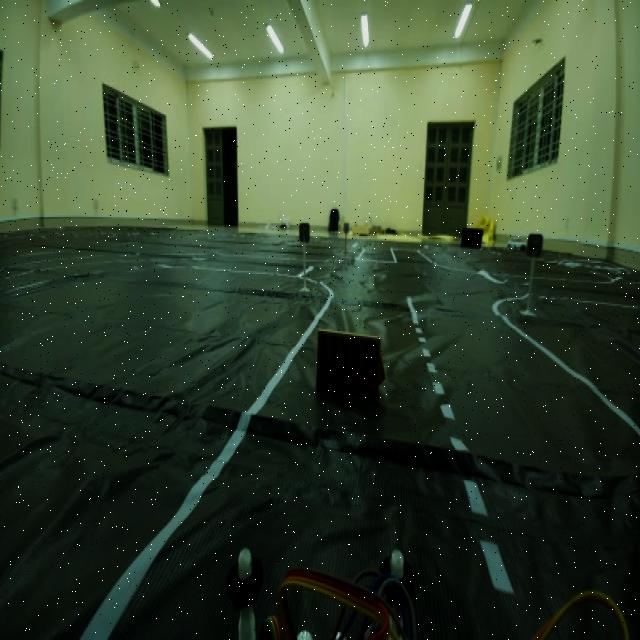roadblock: (314, 320, 392, 417)
